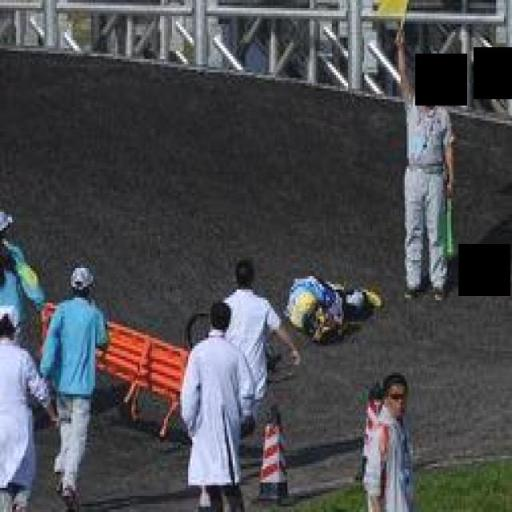Fall: (274, 252, 387, 346)
